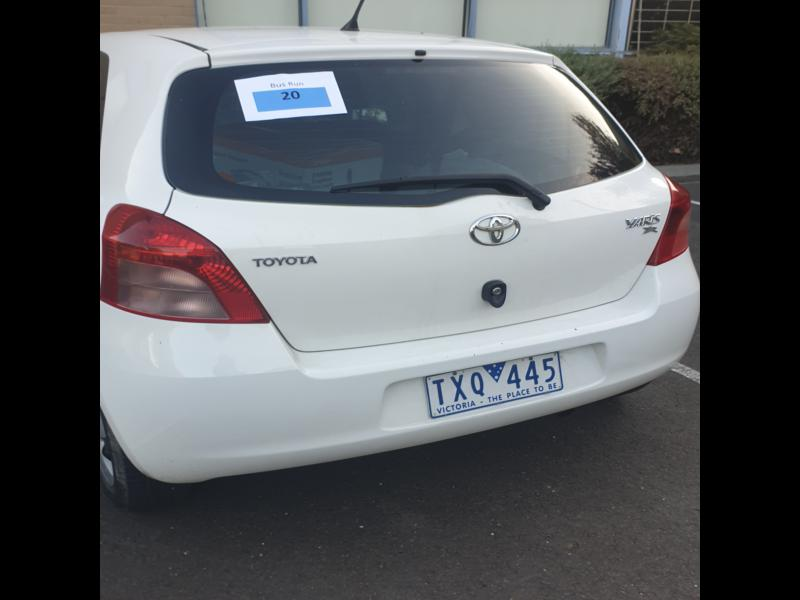BusRun: (253, 87, 333, 110)
PlateNo: (426, 347, 564, 421)
